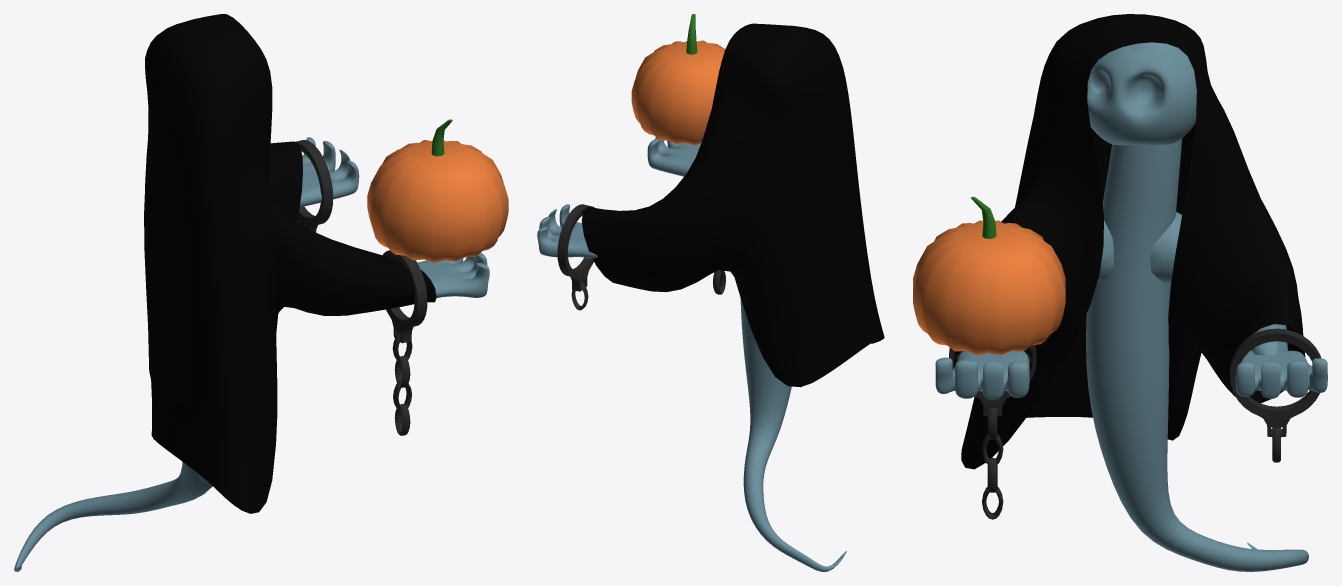
Rendered from quit.fbx.
3 renders of one model, left to right at view 1: azimuth 30°, elevation 25°; view 2: azimuth 150°, elevation 25°; view 3: azimuth 270°, elevation 25°, orthographic. The views are drawn at different scales.
Parts seen in each view (by area): view 1: Plane, Circle.001, Sphere, Circle, Circle.006; view 2: Plane, Sphere, Circle.001, Circle.006; view 3: Plane, Sphere, Circle.001, Circle.006, Circle.
Boxes of the visible parts, x1,y1,x2,y2 form: Plane: [144, 14, 436, 513]; Circle.001: [367, 119, 508, 262]; Sphere: [14, 137, 489, 571]; Circle: [383, 250, 427, 435]; Circle.006: [295, 140, 333, 232]; Plane: [581, 23, 884, 387]; Sphere: [537, 68, 846, 571]; Circle.001: [631, 14, 725, 145]; Circle.006: [557, 204, 594, 310]; Plane: [953, 14, 1305, 469]; Sphere: [935, 42, 1327, 571]; Circle.001: [913, 196, 1065, 355]; Circle.006: [1230, 328, 1320, 462]; Circle: [949, 345, 1036, 519].
Bounding box in the file's own units: 703 × 1040 × 640.
